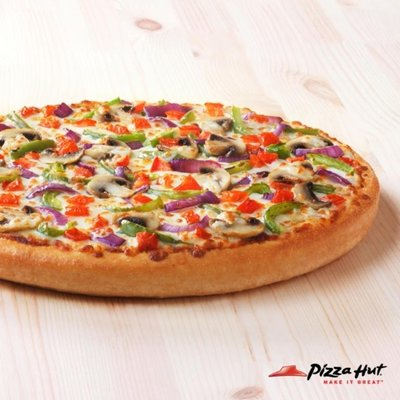curry: (3, 1, 400, 385)
sandwich: (0, 97, 369, 299)
